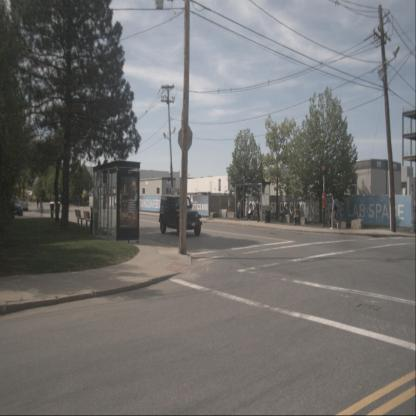human-pedestrian-adult: (329, 195, 339, 229), (294, 203, 300, 225), (255, 198, 260, 222), (280, 204, 286, 222), (235, 200, 240, 221), (248, 203, 253, 221), (37, 197, 39, 211)
vehicle-car: (159, 194, 202, 236), (6, 198, 23, 216), (18, 198, 28, 212)
